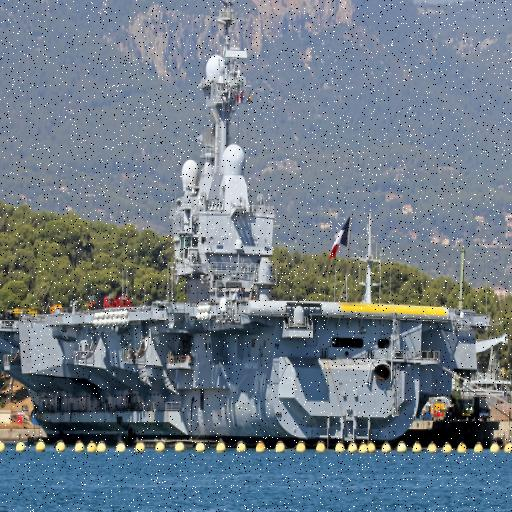Portanaves: (1, 1, 484, 448)
